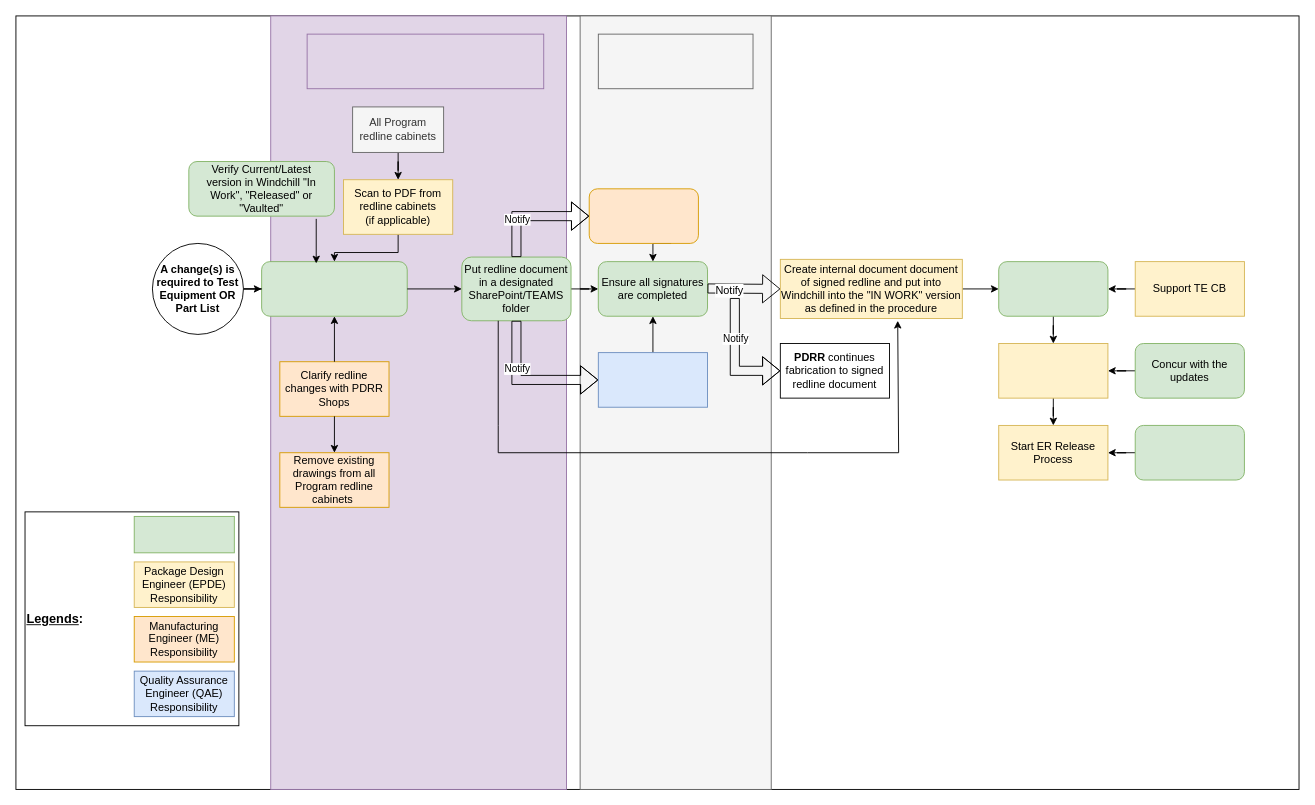
This 1315x805 diagram has some shape labels left out. Each missing label, with the box of its shape:
Approve & sign the redline changes: (588, 188, 698, 243)
Approve and sign the redline change: (597, 352, 708, 407)
Bring to TE Pre-CB for approval: (998, 261, 1108, 316)
Ensure all documents are updated: (998, 343, 1108, 398)
Mark up the drawing with redlined changes in PDF format & sign: (261, 261, 407, 316)
Redlines Pending 3 signatures: (306, 33, 544, 89)
Redlines Signed: (597, 33, 753, 89)
Support ER Process: (1134, 425, 1244, 480)
Test Engineer (TE) Responsibility: (133, 516, 234, 553)
